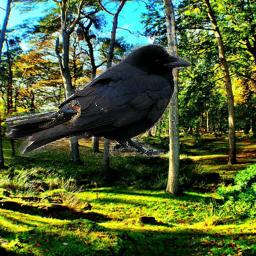Crow: (6, 43, 191, 157)
Swallow: (30, 100, 81, 128)
